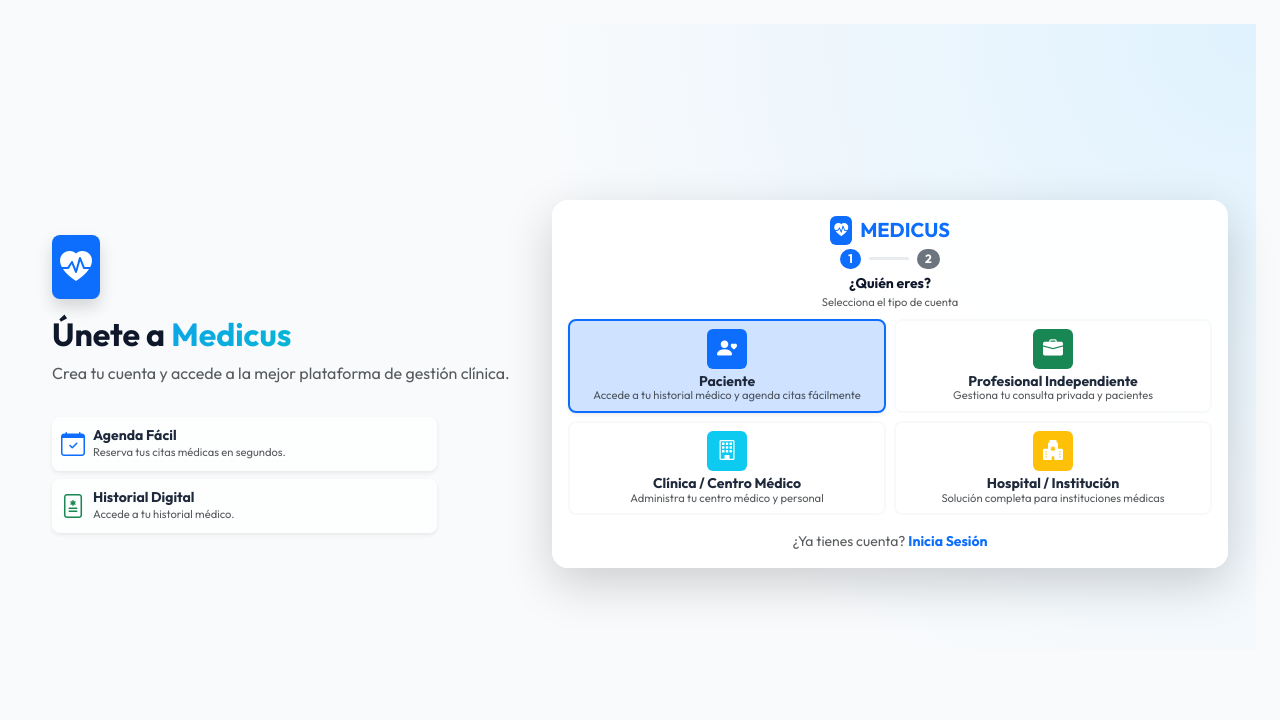
Test: Registration Flow › should navigate to step 2 when selecting account type
The width and height of the screenshot is (1280, 720).
Click the heading "Paciente" at [727, 381], box [699,372,755,390]
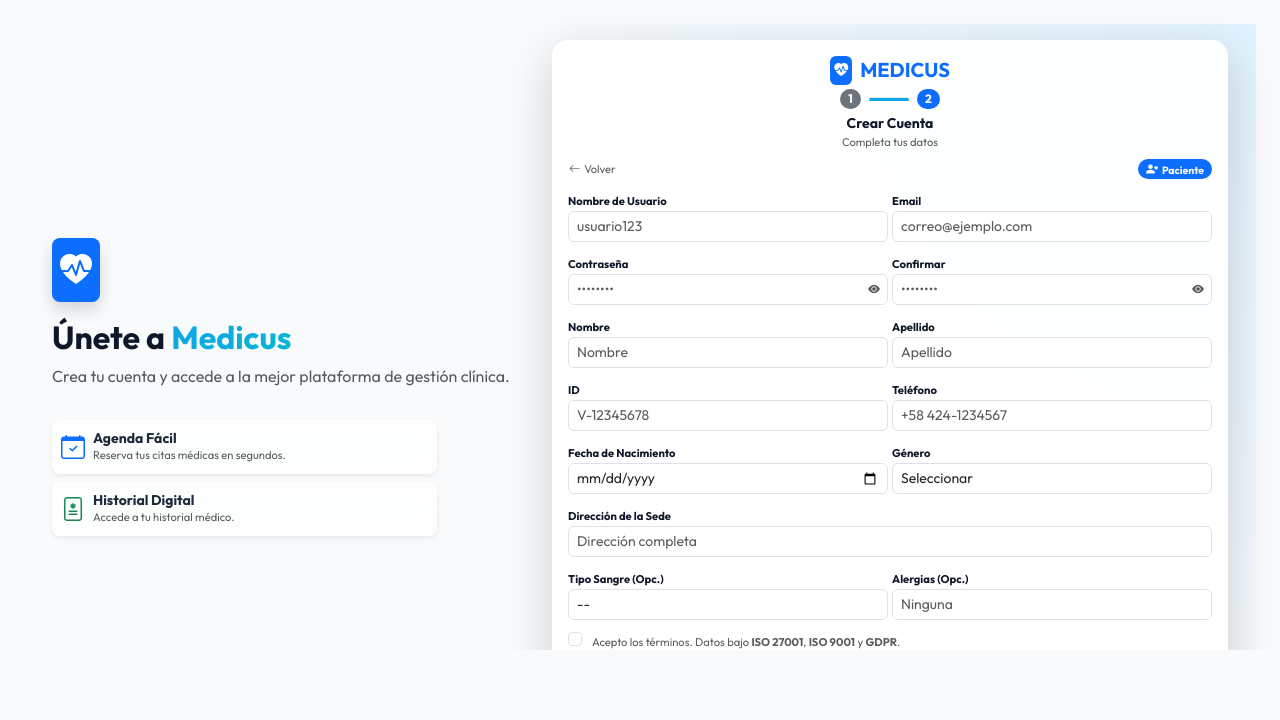
Check: the button "Volver" is shown, box [568,160,617,178]
Check: the field named "username" is shown, box [568,211,888,242]
Check: the field named "email" is shown, box [892,211,1212,242]
